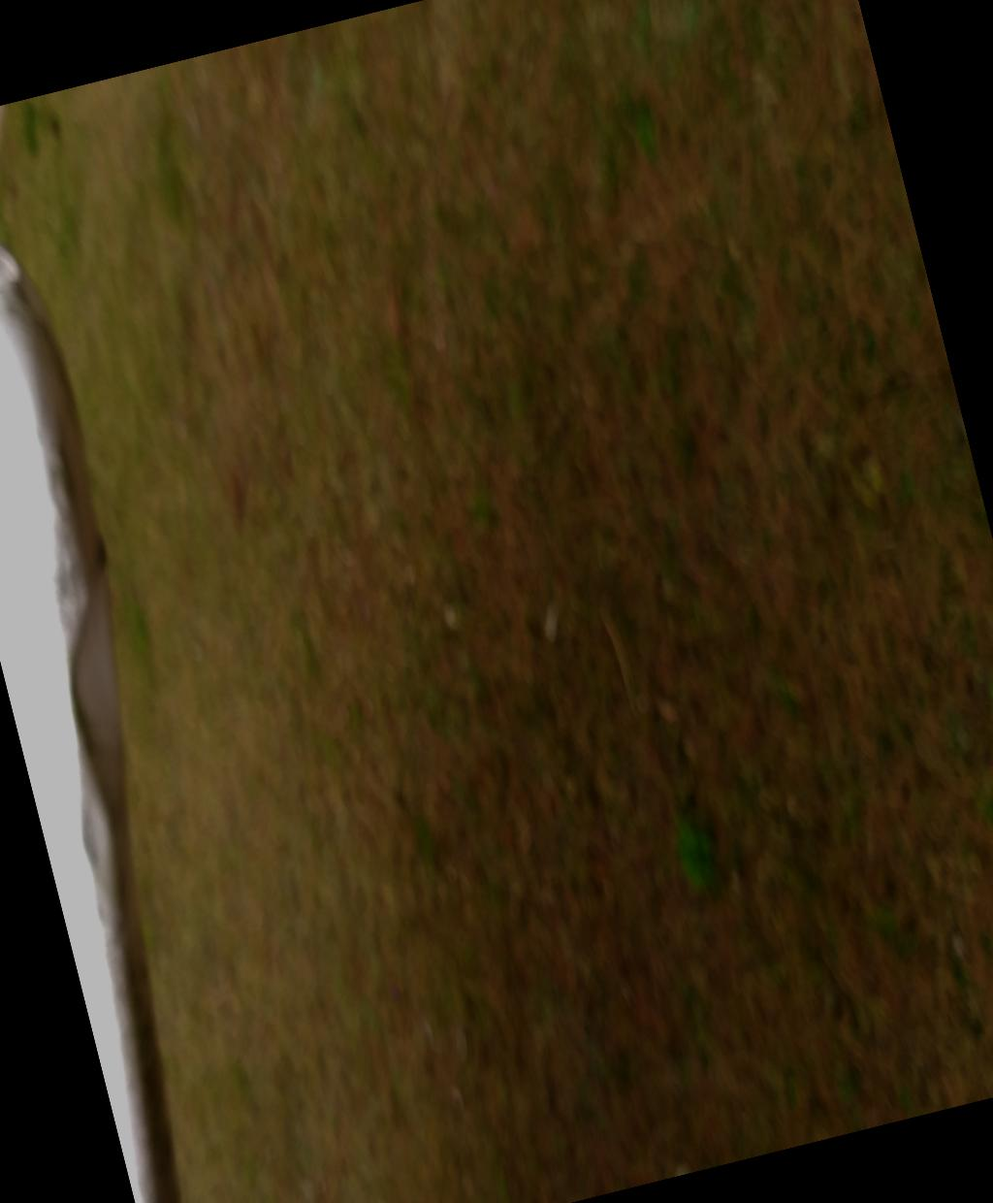dent: (96, 337, 247, 504), (46, 312, 117, 401)
